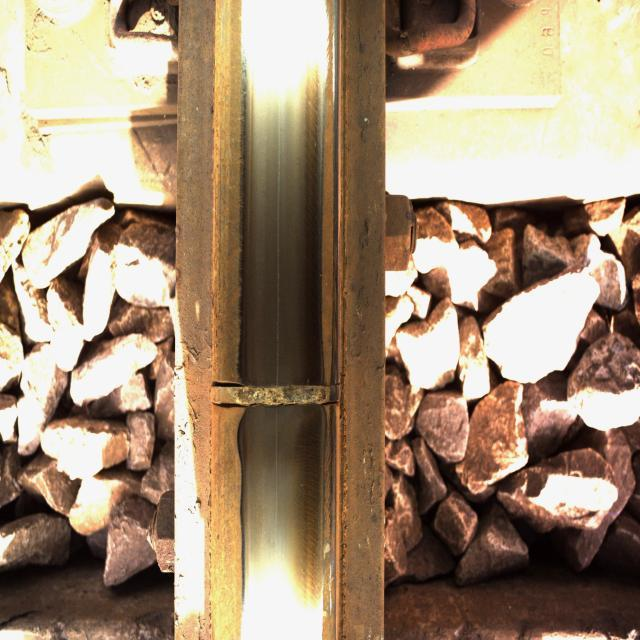spalling: (206, 340, 355, 449)
